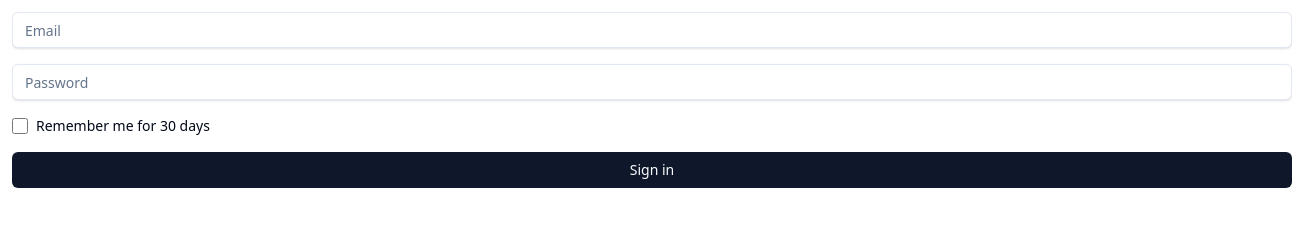
Test case: LoginForm › shows error message on failure
The width and height of the screenshot is (1304, 241).
Type "alice@test.com" into the field with placeholder "Email" at (652, 30), box left=12, top=12, right=1292, bottom=48
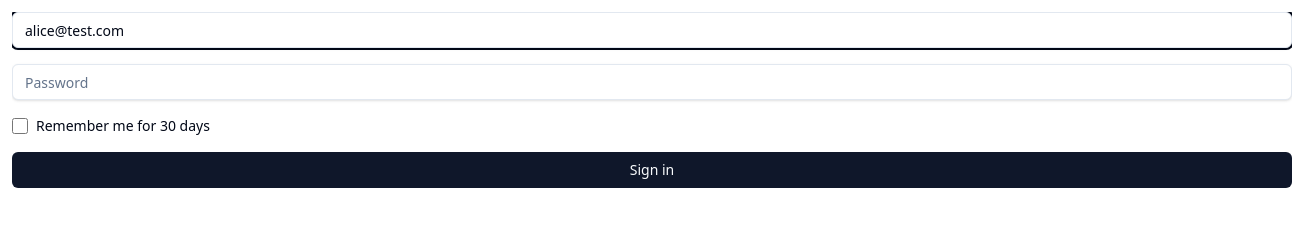
Type "wrong" into the password field with placeholder "Password" at (652, 82), box left=12, top=64, right=1292, bottom=100
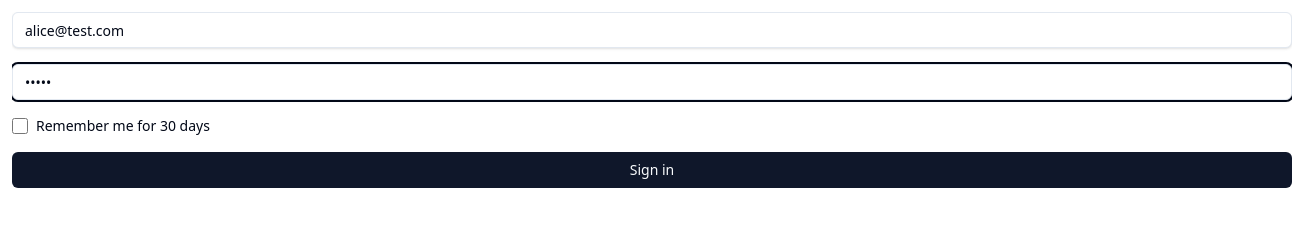
Click the button "Sign in" at (652, 170), box left=12, top=152, right=1292, bottom=188
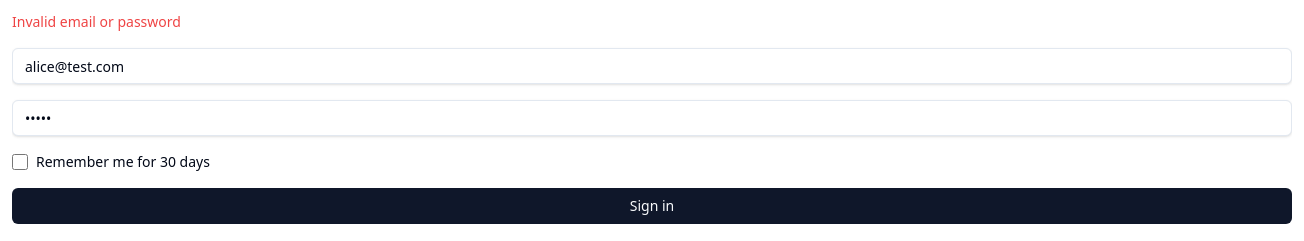
Now the text "Invalid email or password" is shown, box left=12, top=12, right=181, bottom=31
